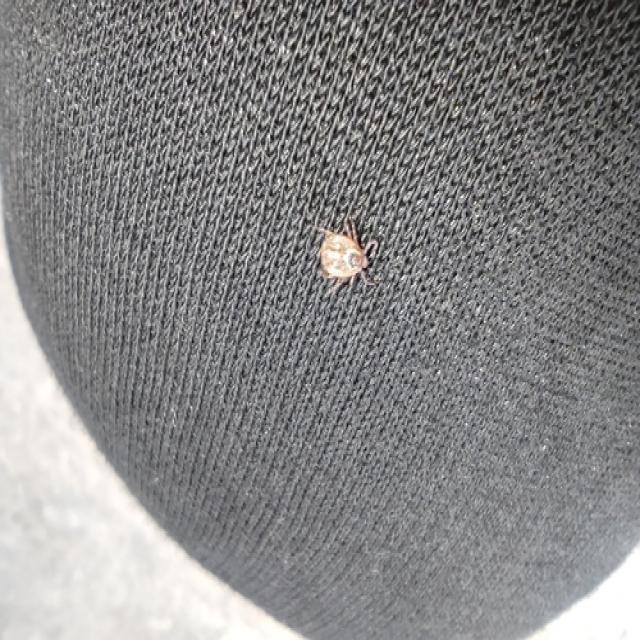Dermacentor Reticulatus-F: (317, 220, 375, 294)
